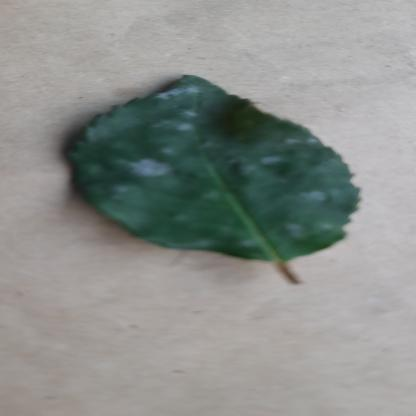powdery-mildew: (60, 74, 370, 264)
